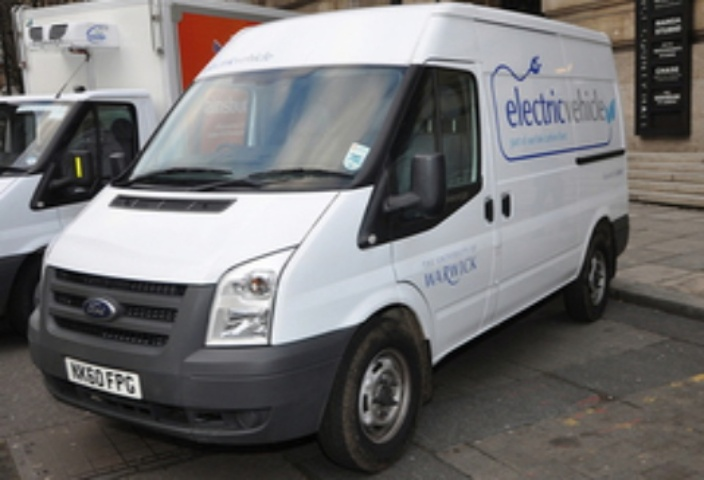van: (27, 2, 631, 480)
